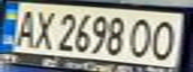2: (54, 9, 78, 53)
6: (72, 11, 93, 54)
8: (106, 14, 130, 56)
9: (90, 11, 112, 55)
A: (9, 6, 39, 48)
O: (145, 17, 184, 61), (124, 16, 160, 60)
X: (30, 7, 57, 51)
